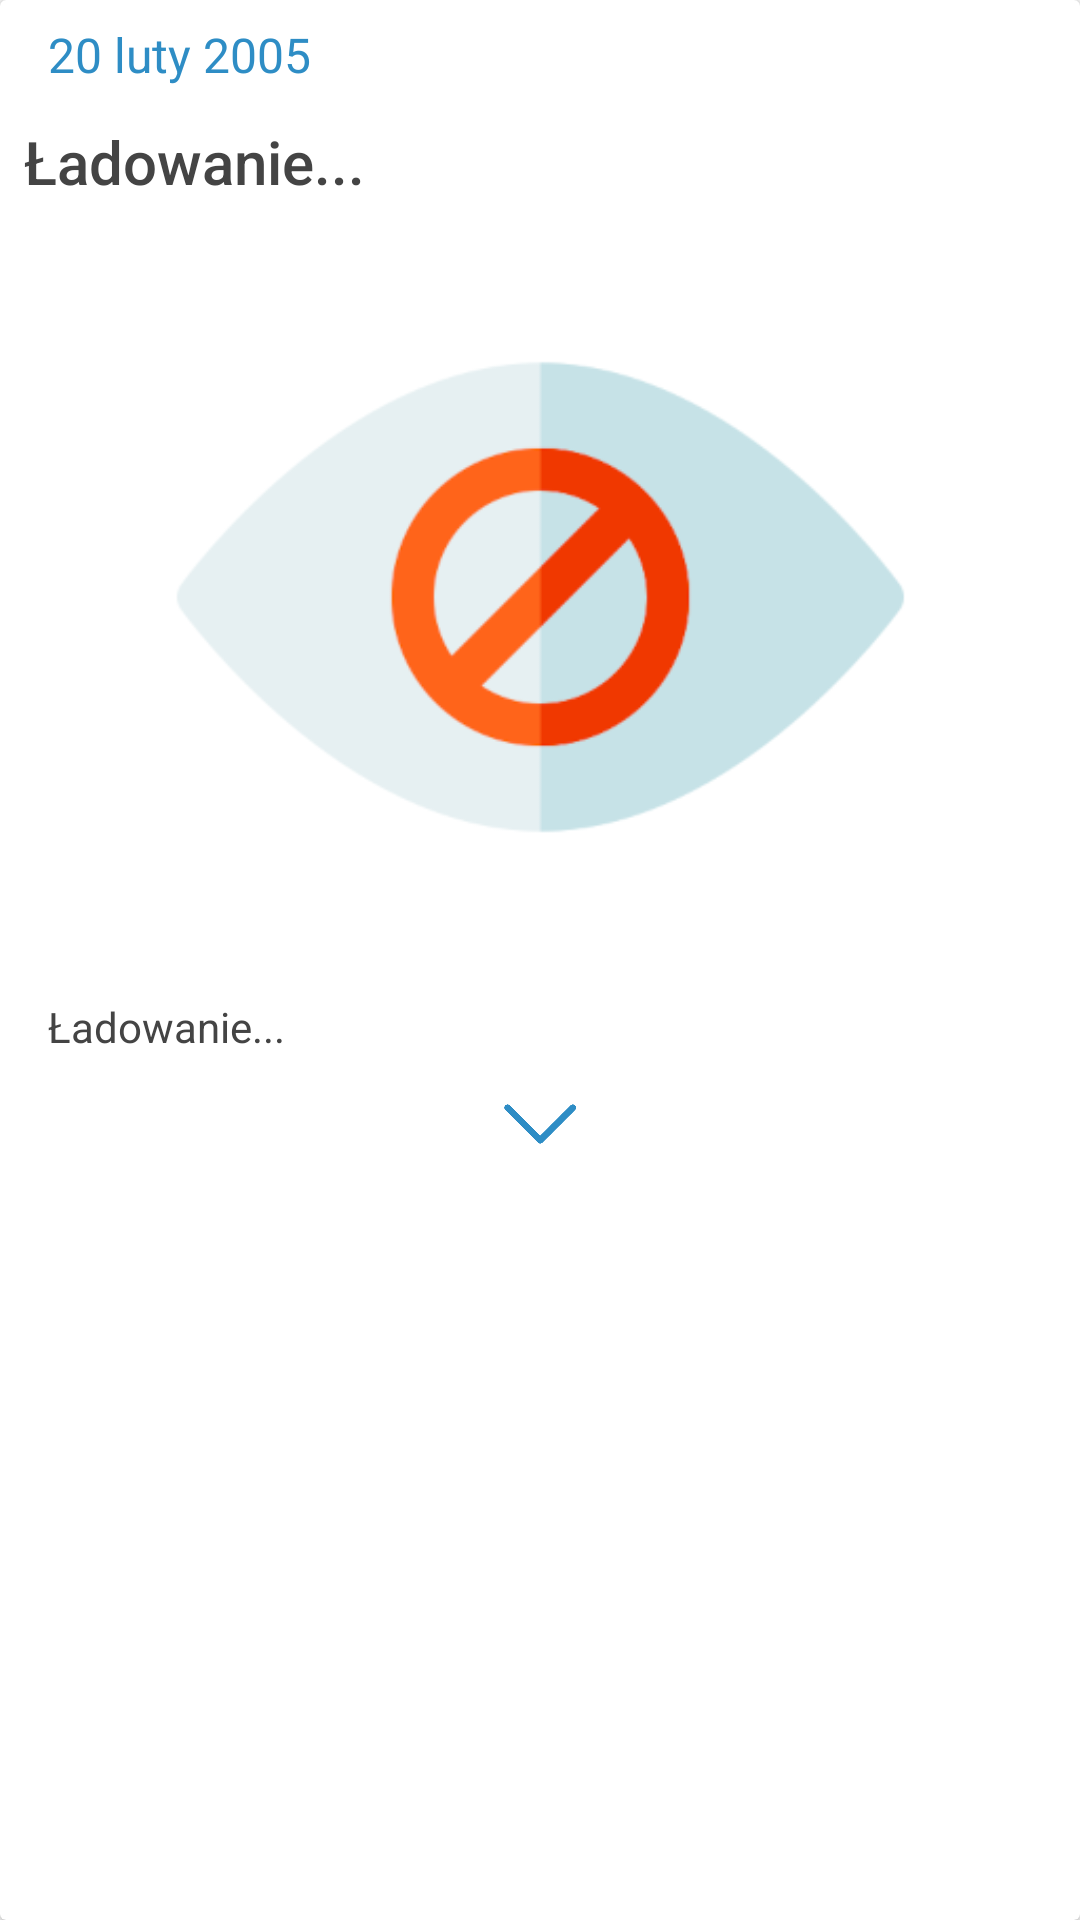

Icons on this 1080px x 1920px Android screen, each with its box as (left=x1, top=y1, right=x2, bottom=y2):
down arrow: (left=504, top=1104, right=576, bottom=1144)
